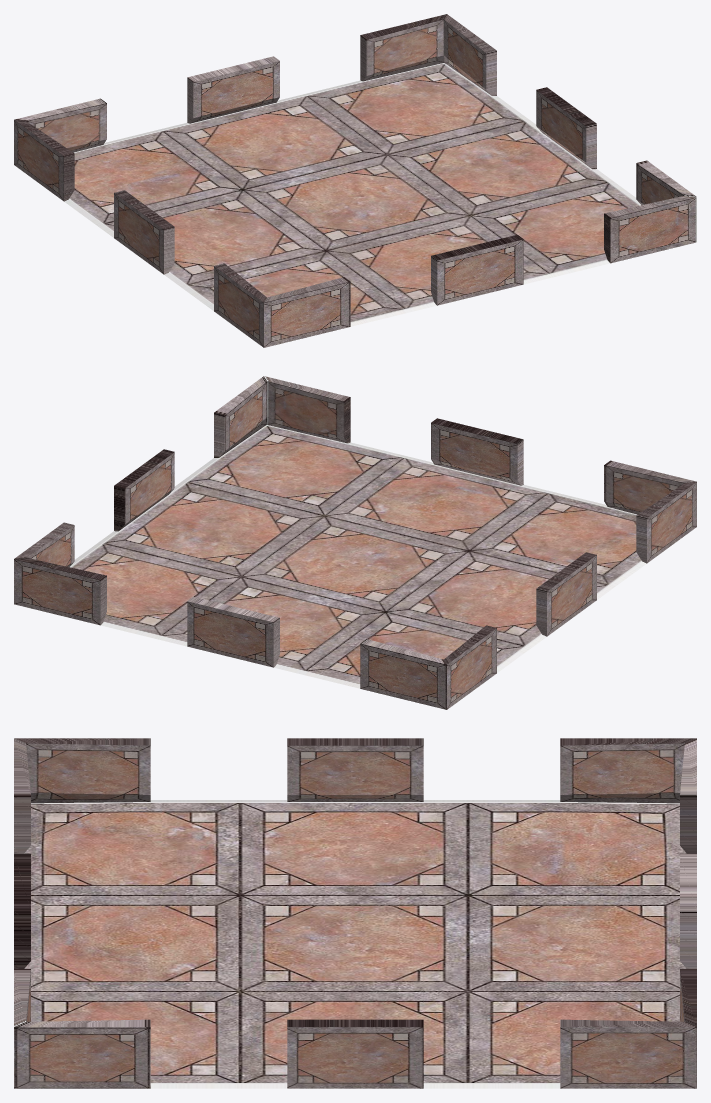
File: Floor.fbx
3 renders of one model, top to bottom at view 1: azimuth 30°, elevation 25°; view 2: azimuth 150°, elevation 25°; view 3: azimuth 270°, elevation 25°, orthographic. The views are drawn at different scales.
Parts seen in each view (by area): view 1: Cube; view 2: Cube; view 3: Cube.
Part boxes in pixels (x1=…): Cube: x1=14, y1=14, x2=696, y2=347; Cube: x1=14, y1=376, x2=696, y2=709; Cube: x1=14, y1=738, x2=696, y2=1088.
Size of the model in its own units: 2000 by 200 by 2000.
1 material, 1 textured.
